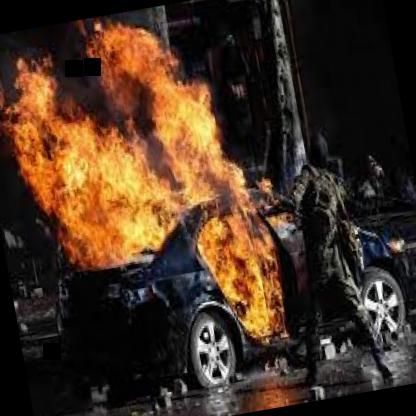fire: (0, 0, 297, 404)
